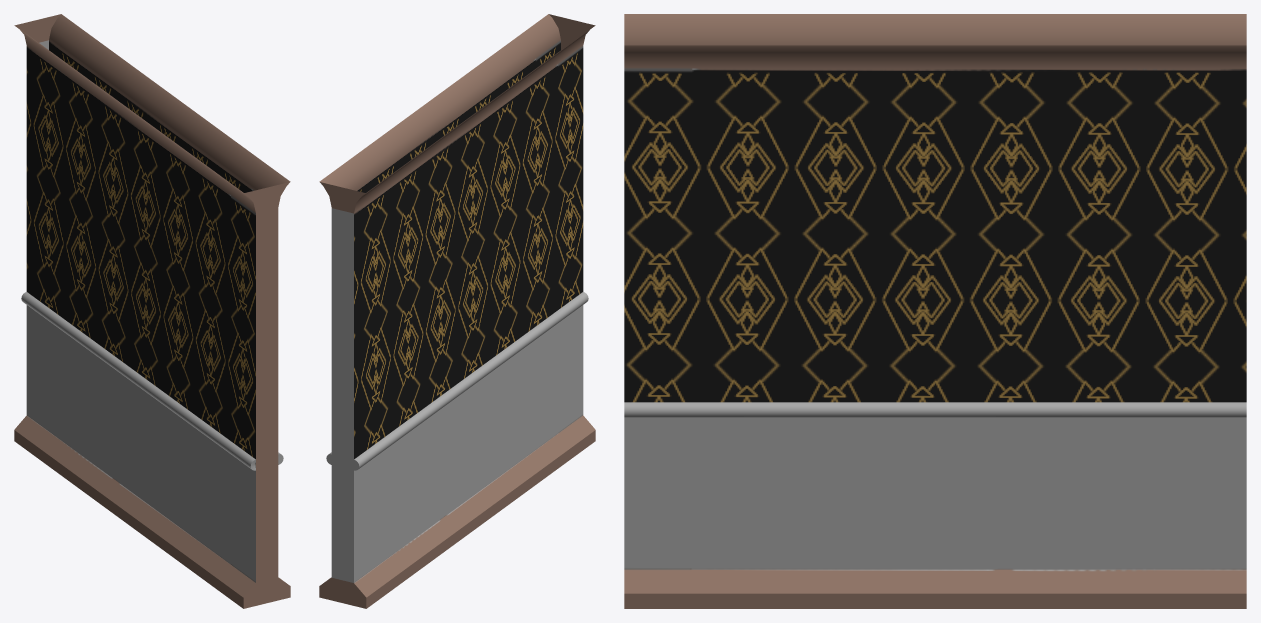
Rendered from Wall_Geo (V3).fbx.
3 renders of one model, left to right at view 1: azimuth 30°, elevation 25°; view 2: azimuth 150°, elevation 25°; view 3: azimuth 270°, elevation 25°, orthographic. The views are drawn at different scales.
Visible parts, largest first — view 1: polySurface15; view 2: polySurface15; view 3: polySurface15.
Boxes of the visible parts, bbox=[...] form: polySurface15: bbox=[14, 14, 290, 608]; polySurface15: bbox=[319, 14, 595, 608]; polySurface15: bbox=[624, 14, 1246, 608].
Bounding box in the file's own units: 0.3564 × 3 × 3.
